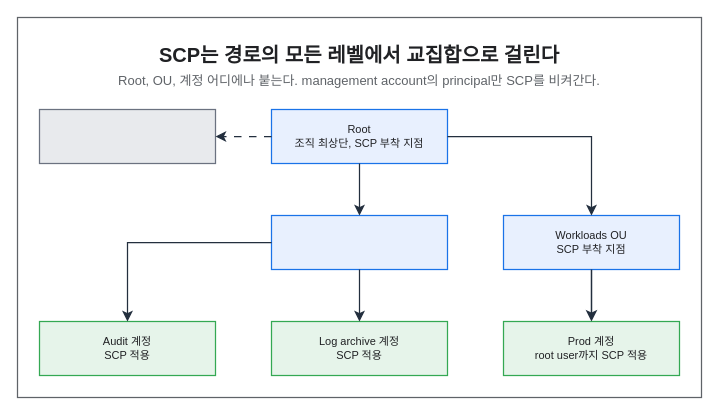
This 720x416 diagram has some shape labels left out. Here are the shapes that lost their labels. From the top down, the centre of each, then its label:
At point (127, 136): "management account SCP 적용 안 됨".
At point (359, 242): "Security OU SCP 부착 지점".
